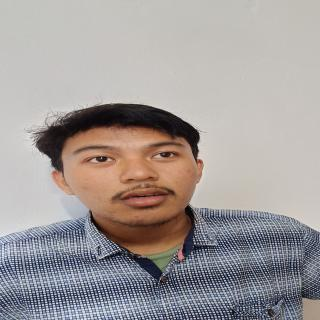Takut: (53, 120, 213, 232)
